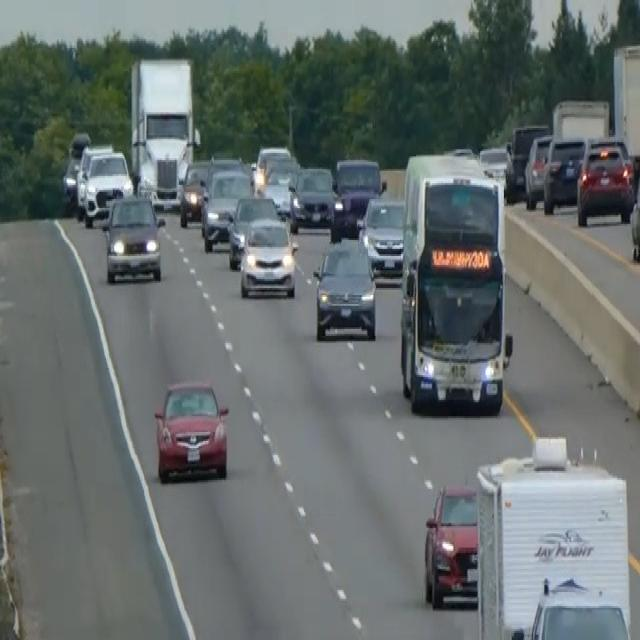bus: (397, 148, 514, 416)
car: (153, 377, 230, 483), (422, 480, 478, 608), (312, 235, 377, 341), (102, 192, 165, 283), (575, 135, 634, 228), (239, 215, 297, 299), (329, 155, 385, 240), (200, 165, 254, 251), (226, 192, 279, 268), (358, 194, 405, 279), (82, 147, 133, 225), (542, 134, 588, 214), (505, 121, 548, 199), (288, 164, 337, 231), (74, 142, 113, 217), (177, 156, 211, 226), (261, 156, 300, 217), (523, 132, 553, 208), (253, 142, 291, 190), (478, 142, 510, 188), (61, 153, 81, 210), (629, 157, 639, 263)
truck: (474, 432, 632, 638)
